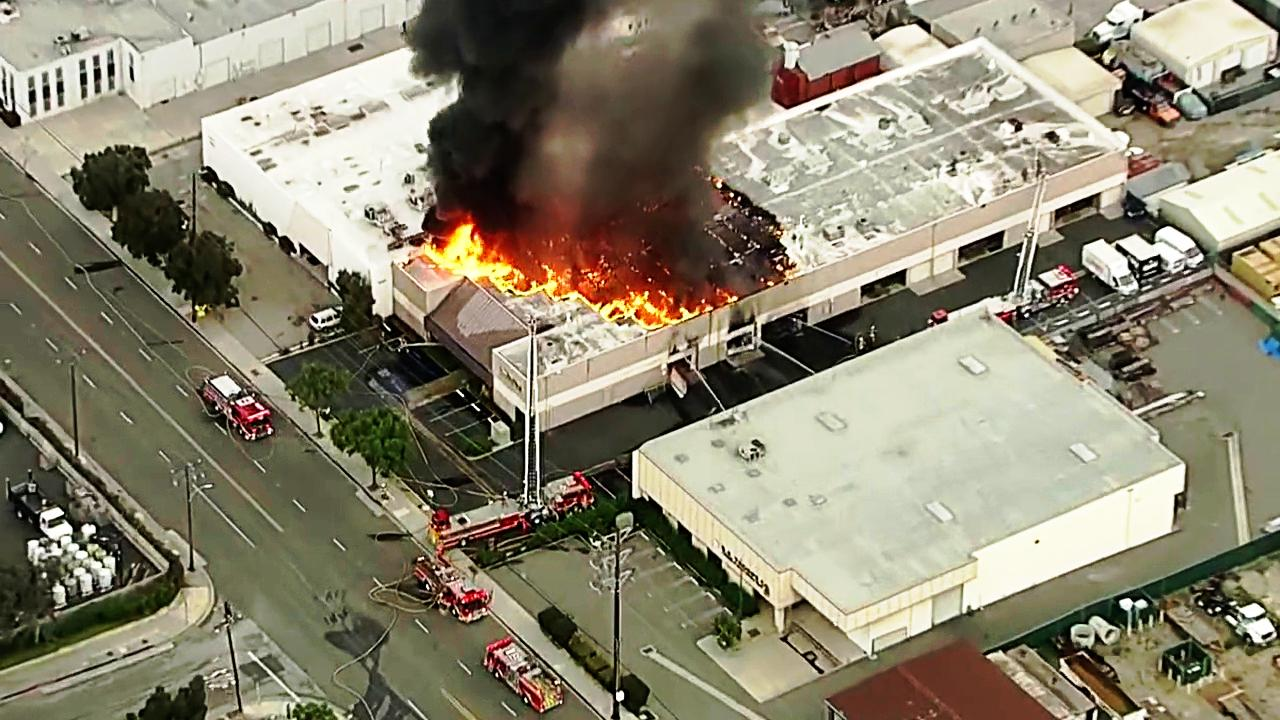fire: (429, 214, 511, 276)
smoke: (417, 9, 529, 199)
